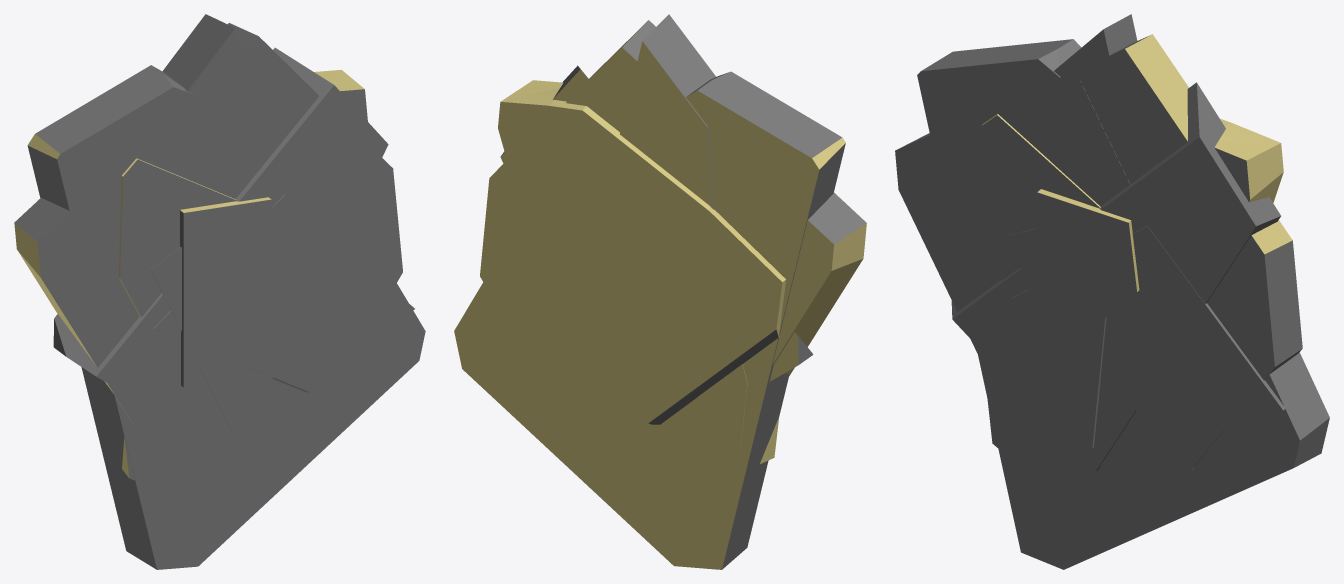
Rendered from crack_ground.fbx.
3 renders of one model, left to right at view 1: azimuth 30°, elevation 25°; view 2: azimuth 150°, elevation 25°; view 3: azimuth 330°, elevation 25°, orthographic. The views are drawn at different scales.
Parts seen in each view (by area): view 1: a10, a11, a16, a8, a4, a18, a12, n10, a9, a19, a1, a21; view 2: a10, a1, a9, a11, a17, a16; view 3: a11, a10, a16, a8, a4, a18, a12, n10, a1, a9, a21.
Boxes of the visible parts, x1,y1,x2,y2 form: a10: [27, 65, 425, 569]; a11: [14, 23, 402, 452]; a16: [53, 47, 388, 455]; a8: [153, 195, 414, 392]; a4: [180, 197, 279, 387]; a18: [118, 158, 236, 317]; a12: [189, 88, 263, 198]; n10: [150, 246, 245, 433]; a9: [162, 14, 240, 93]; a19: [132, 157, 331, 410]; a1: [314, 69, 367, 121]; a21: [104, 251, 133, 314]; a10: [454, 71, 845, 569]; a1: [498, 80, 786, 424]; a9: [545, 14, 715, 445]; a11: [480, 20, 866, 376]; a17: [698, 364, 779, 463]; a16: [500, 65, 813, 381]; a11: [895, 34, 1302, 475]; a10: [917, 39, 1329, 569]; a16: [951, 82, 1280, 471]; a8: [1011, 226, 1286, 443]; a4: [1037, 189, 1139, 373]; a18: [979, 114, 1100, 281]; a12: [1053, 81, 1130, 206]; n10: [1007, 228, 1106, 447]; a1: [1214, 119, 1283, 202]; a9: [1054, 14, 1137, 76]; a21: [964, 197, 999, 282].
Bounding box in the file's own units: 79.5 × 104 × 13.56.
